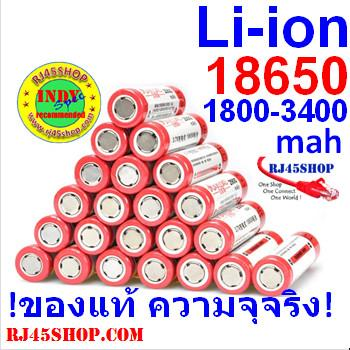Battery: (251, 229, 324, 295), (106, 85, 189, 130)
